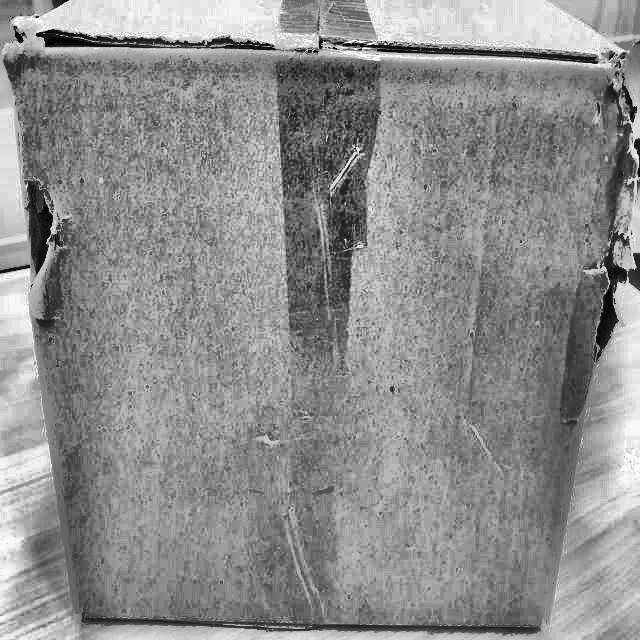box: (1, 0, 639, 636)
hole: (20, 163, 72, 331), (589, 220, 632, 364)
